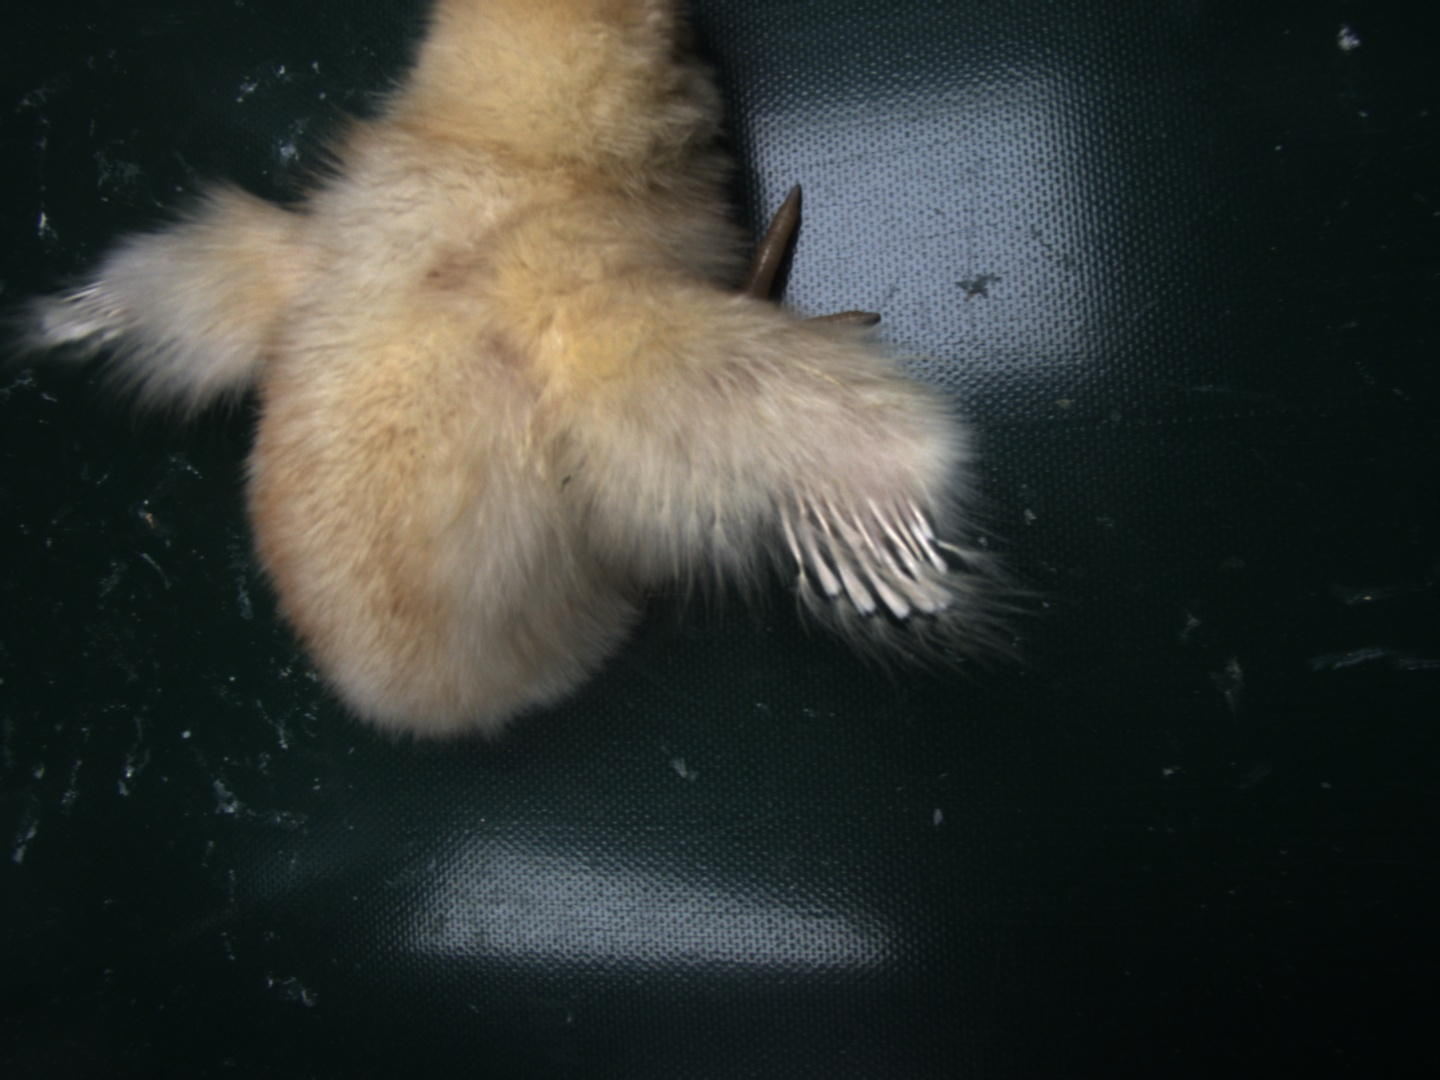female: (776, 469, 976, 623)
